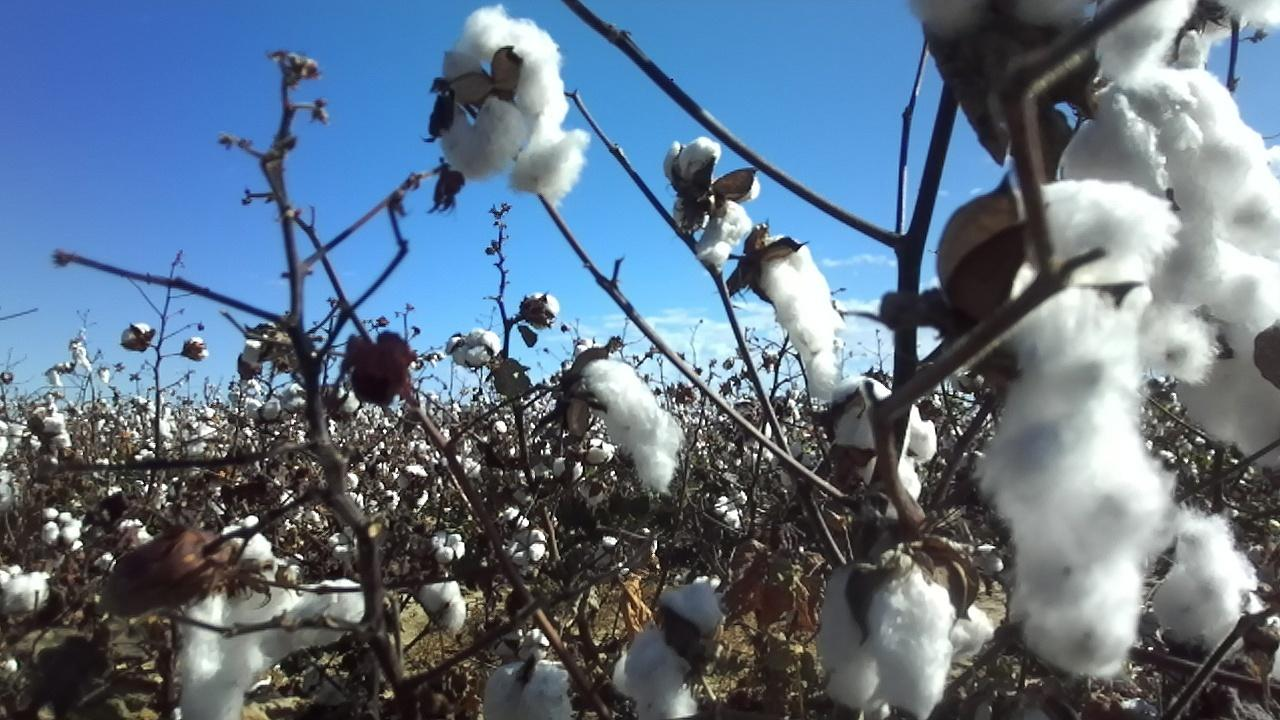cotton_ready: (982, 179, 1181, 679), (1060, 65, 1267, 311), (176, 522, 365, 720), (431, 5, 589, 204), (814, 552, 949, 720), (1156, 507, 1280, 682), (754, 234, 845, 404), (1092, 0, 1280, 79), (580, 359, 685, 497), (623, 579, 725, 720), (832, 375, 936, 509), (667, 135, 761, 271), (909, 0, 1094, 34), (482, 657, 573, 720), (949, 604, 994, 679), (0, 563, 52, 619), (417, 580, 468, 634)
